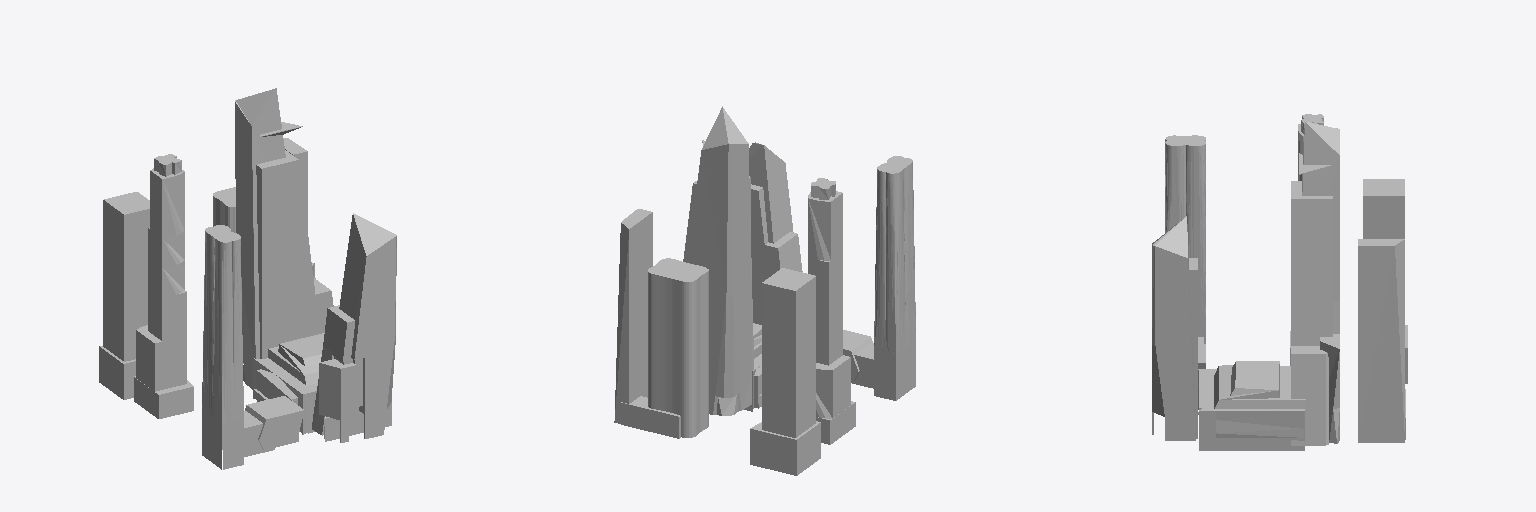
3 views of the same model, side by side, from view 1: azimuth 30°, elevation 25°; view 2: azimuth 150°, elevation 25°; view 3: azimuth 270°, elevation 25° (orthographic).
Parts seen in each view (by area): view 1: hyScheme_05, Box010, hyScheme_03, hyScheme_02, hyScheme_01, hyScheme_06, hyScheme_04; view 2: hyScheme_04, hyScheme_05, hyScheme_01, hyScheme_03, hyScheme_02, Box010, hyScheme_06; view 3: hyScheme_05, hyScheme_04, Box010, hyScheme_06, hyScheme_03, hyScheme_01.
Part boxes in pixels (bbox=[...]): hyScheme_05: bbox=[235, 88, 333, 389]; Box010: bbox=[312, 213, 396, 442]; hyScheme_03: bbox=[202, 225, 304, 469]; hyScheme_02: bbox=[134, 154, 193, 418]; hyScheme_01: bbox=[99, 192, 149, 399]; hyScheme_06: bbox=[253, 333, 324, 434]; hyScheme_04: bbox=[213, 138, 307, 363]; hyScheme_04: bbox=[614, 209, 708, 438]; hyScheme_05: bbox=[683, 106, 753, 415]; hyScheme_01: bbox=[750, 268, 820, 475]; hyScheme_03: bbox=[843, 156, 915, 400]; hyScheme_02: bbox=[808, 178, 855, 444]; Box010: bbox=[749, 142, 802, 324]; hyScheme_06: bbox=[744, 323, 761, 411]; hyScheme_05: bbox=[1291, 122, 1339, 445]; hyScheme_04: bbox=[1358, 239, 1405, 442]; Box010: bbox=[1152, 216, 1198, 440]; hyScheme_06: bbox=[1198, 361, 1305, 450]; hyScheme_03: bbox=[1165, 135, 1205, 368]; hyScheme_01: bbox=[1363, 179, 1407, 383].
Bounding box in the file's own units: 246 × 382 × 294.